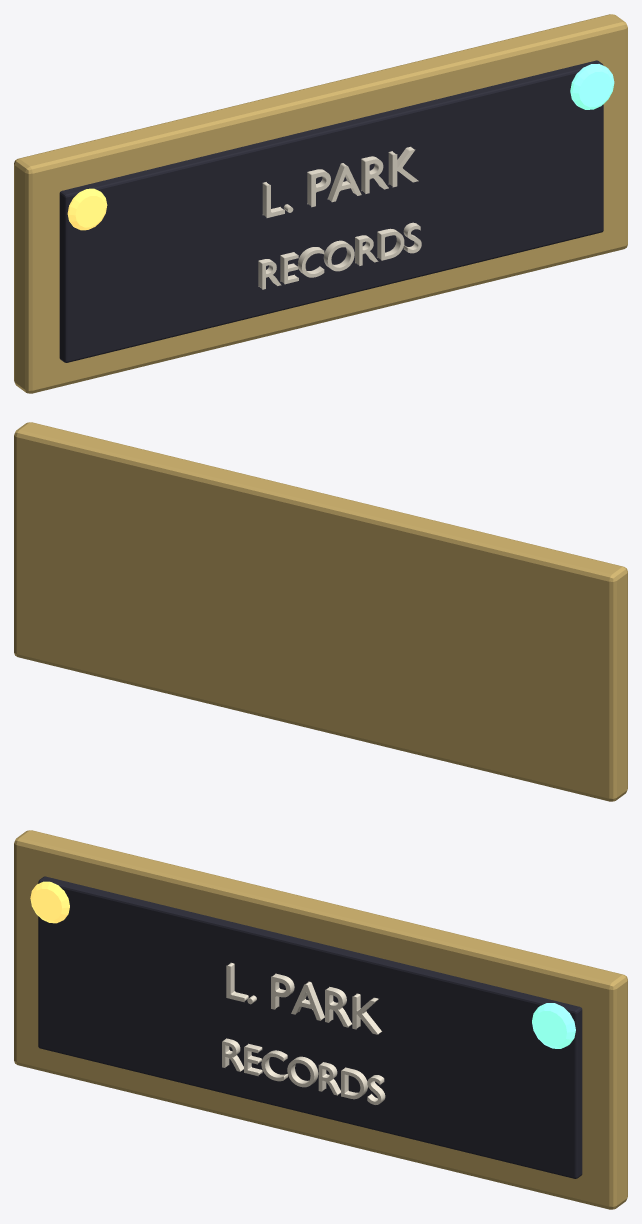
Rendered from records-plaque.glb.
3 views of the same model, one above another, from view 1: azimuth 30°, elevation 25°; view 2: azimuth 150°, elevation 25°; view 3: azimuth 330°, elevation 25° (orthographic).
Parts seen in each view (by area): view 1: records black enamel inset, records wall brass backplate, records plaque lower letters, records plaque top letters, records teal status lamp, records amber call button; view 2: records wall brass backplate; view 3: records black enamel inset, records wall brass backplate, records plaque lower letters, records plaque top letters, records teal status lamp, records amber call button.
Part boxes in pixels (box(x1,y1,x2,y2)): records black enamel inset: box(59, 60, 603, 362); records wall brass backplate: box(14, 14, 627, 393); records plaque lower letters: box(258, 222, 421, 289); records plaque top letters: box(262, 146, 418, 217); records teal status lamp: box(570, 64, 614, 109); records amber call button: box(67, 188, 107, 230); records wall brass backplate: box(14, 422, 627, 801); records black enamel inset: box(38, 876, 582, 1178); records wall brass backplate: box(14, 830, 627, 1209); records plaque lower letters: box(222, 1038, 385, 1104); records plaque top letters: box(226, 962, 382, 1034); records teal status lamp: box(532, 1003, 575, 1048); records amber call button: box(30, 881, 69, 923).
Bounding box in the file's own units: 1.72 × 0.62 × 0.1525.
